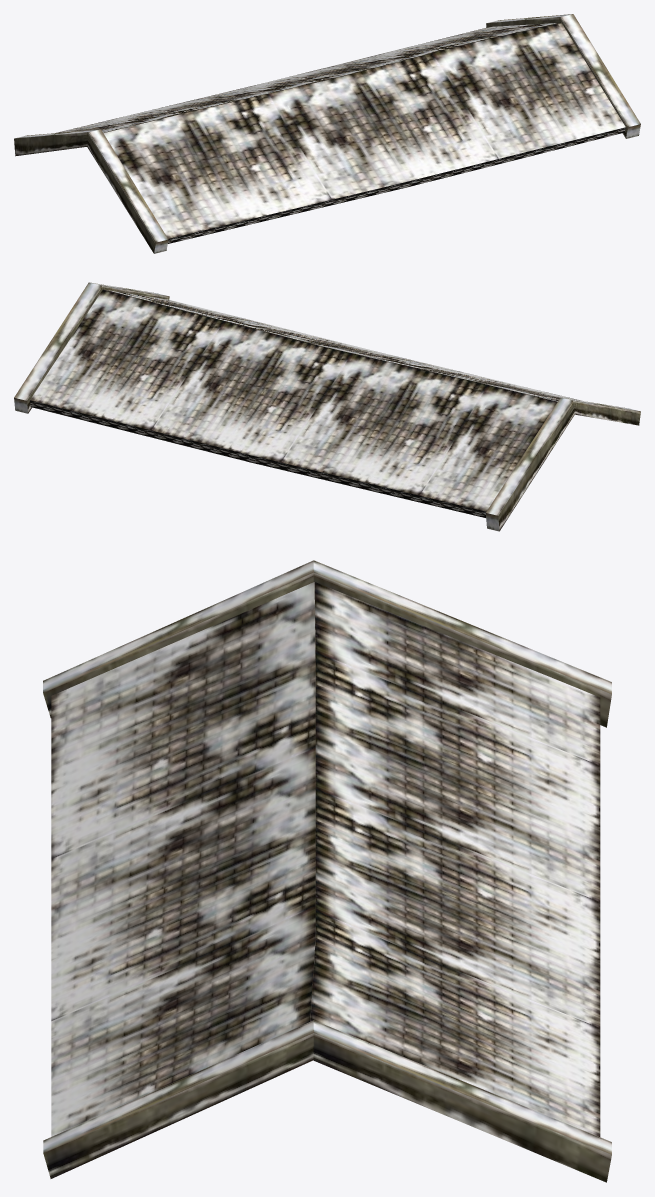
File: fangd05.obj
3 renders of one model, top to bottom at view 1: azimuth 30°, elevation 25°; view 2: azimuth 150°, elevation 25°; view 3: azimuth 270°, elevation 25°, orthographic. The views are drawn at different scales.
Visible parts, largest first — view 1: fangd05; view 2: fangd05; view 3: fangd05.
Part boxes in pixels (box(x1,y1,x2,y2)): fangd05: box(14, 14, 640, 253); fangd05: box(14, 282, 640, 531); fangd05: box(43, 560, 611, 1182).
Bounding box in the file's own units: 213 × 32.41 × 108.
